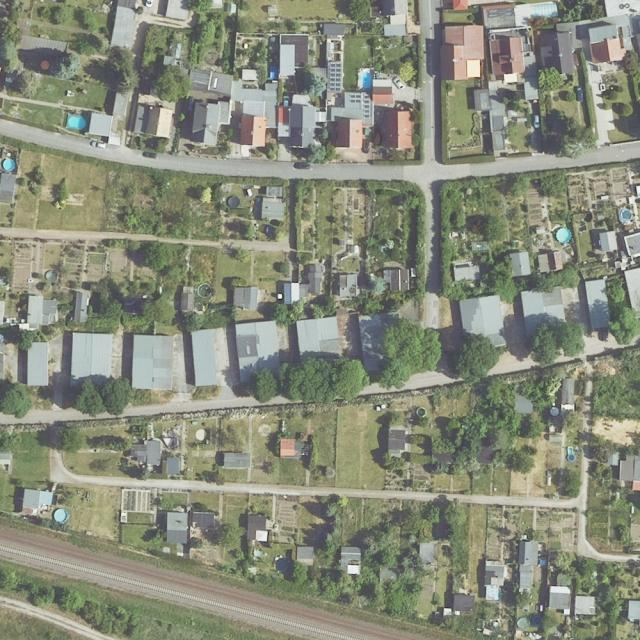PV: (349, 93, 370, 119), (329, 62, 342, 92), (481, 92, 489, 108)
